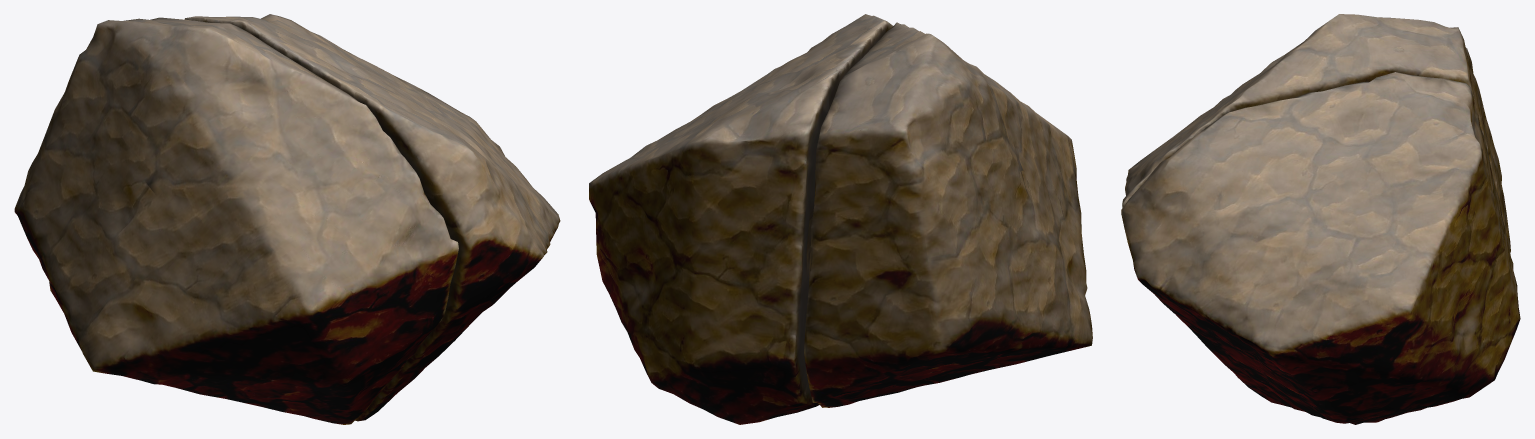
Rendered from boulder_split_b.glb.
The picture shows the model from 3 angles, left to right: view 1: azimuth 30°, elevation 25°; view 2: azimuth 150°, elevation 25°; view 3: azimuth 270°, elevation 25°; orthographic projection. The views are drawn at different scales.
Visible parts, largest first — view 1: rock0, rock1; view 2: rock0, rock1; view 3: rock1, rock0.
Boxes of the visible parts, x1,y1,x2,y2 form: rock0: (14,17,458,424); rock1: (184,14,560,421); rock0: (804,22,1092,407); rock1: (589,14,892,424); rock1: (1121,72,1520,424); rock0: (1122,14,1510,252).
Size of the model in its own units: 1.32 by 1.11 by 1.17.
Materials: 2 (2 with a texture image).
